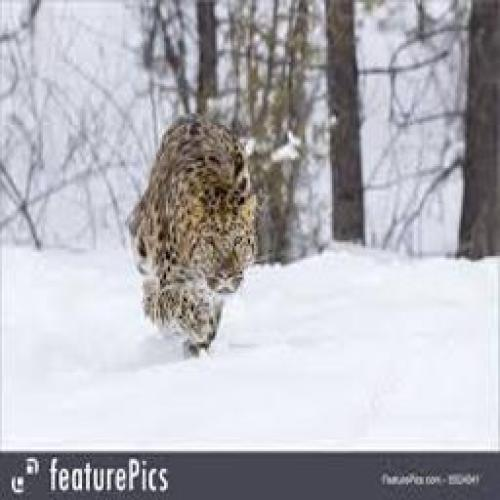amur_leopard-endangered: (128, 115, 260, 354)
